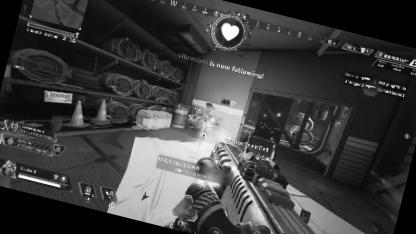Target: (198, 100, 218, 132)
